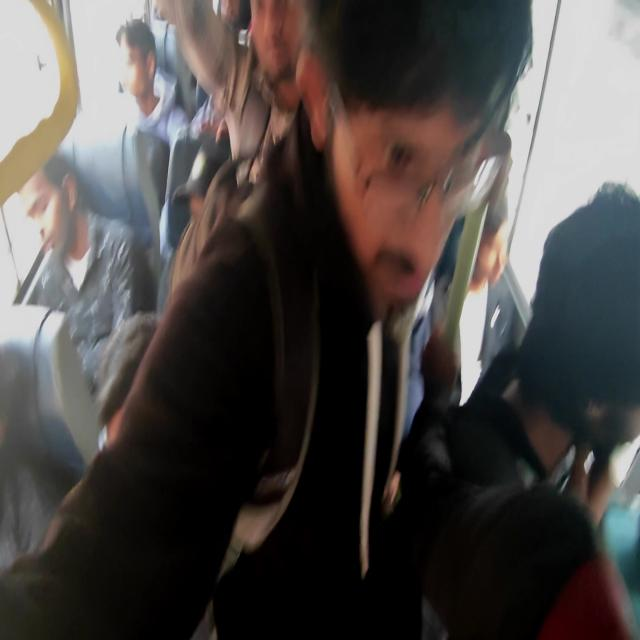person: (328, 60, 491, 316), (519, 186, 639, 432), (89, 346, 186, 506), (168, 144, 245, 294), (0, 358, 26, 534), (22, 168, 70, 262), (247, 0, 300, 76), (114, 16, 159, 100), (221, 0, 247, 29)
